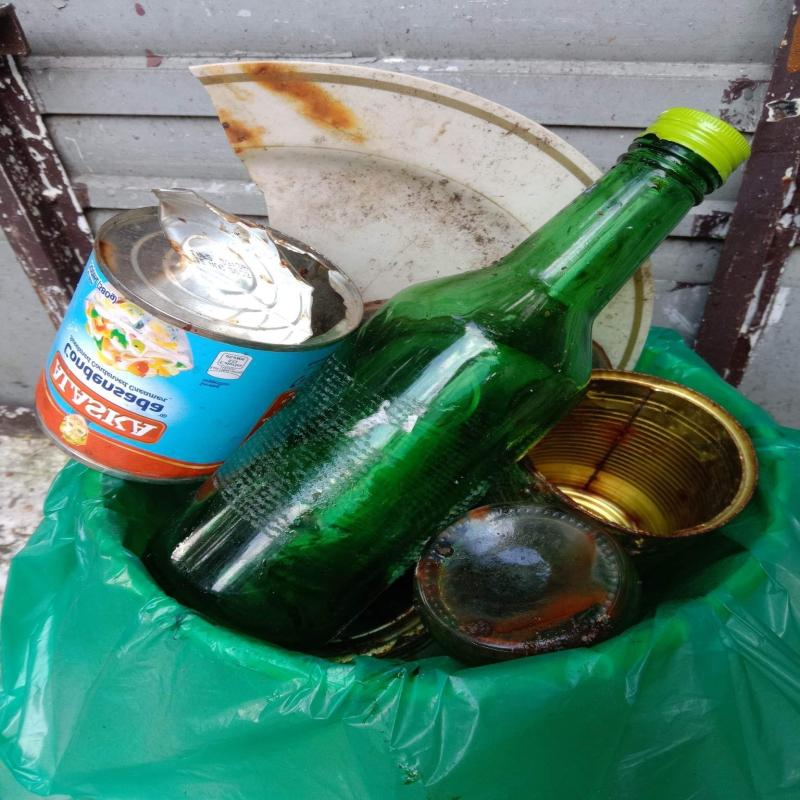aluminum: (35, 189, 365, 485), (496, 370, 758, 581)
glass bottle: (142, 108, 749, 654), (410, 504, 646, 669)
